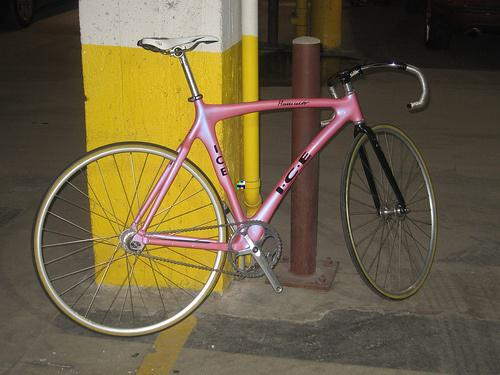car: (33, 30, 449, 340)
